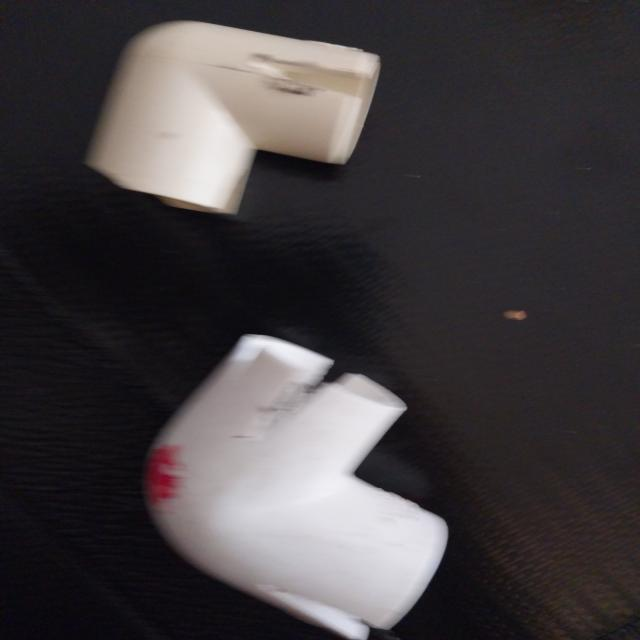Defective: (255, 333, 381, 424), (268, 577, 386, 640), (272, 55, 375, 106)
L Joint: (134, 343, 458, 640), (83, 20, 381, 218)
